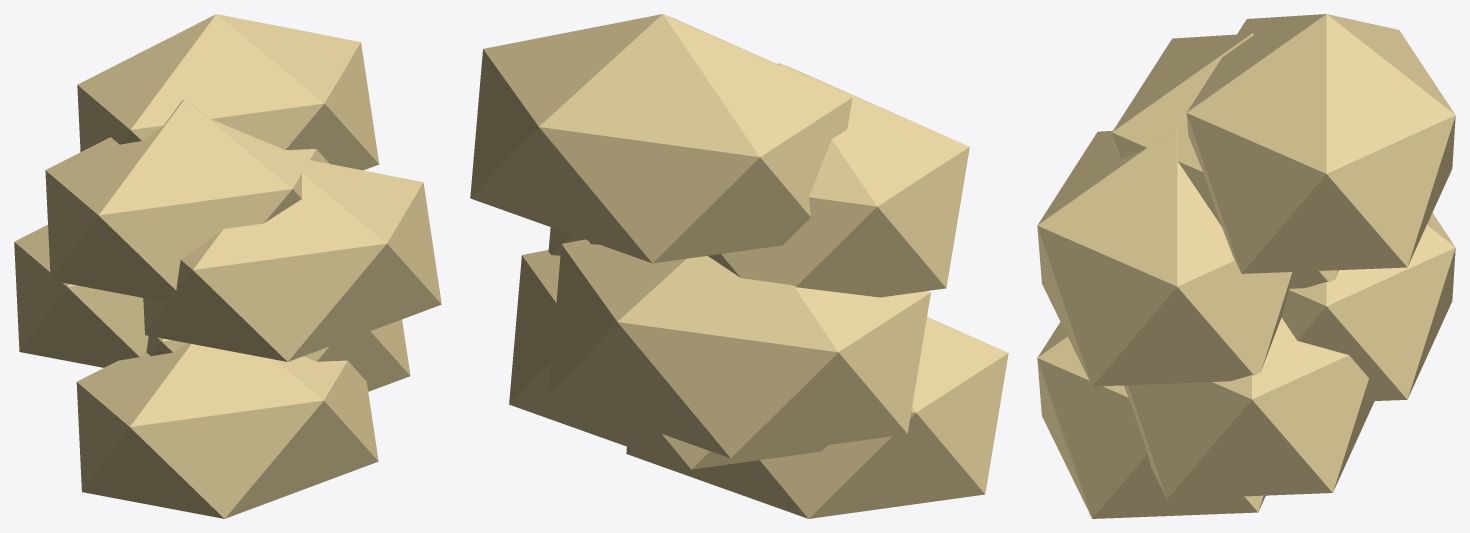
File: item_089_beeswax_l.glb
The picture shows the model from 3 angles, left to right: view 1: azimuth 30°, elevation 25°; view 2: azimuth 150°, elevation 25°; view 3: azimuth 270°, elevation 25°; orthographic projection. The views are drawn at different scales.
Visible parts, largest first — view 1: item_089_beeswax_l; view 2: item_089_beeswax_l; view 3: item_089_beeswax_l.
Part boxes in pixels (<box>): item_089_beeswax_l: <box>14,14,441,518</box>; item_089_beeswax_l: <box>470,14,1008,518</box>; item_089_beeswax_l: <box>1037,14,1455,518</box>.
Bounding box in the file's own units: 0.3788 × 0.4539 × 0.3363.
